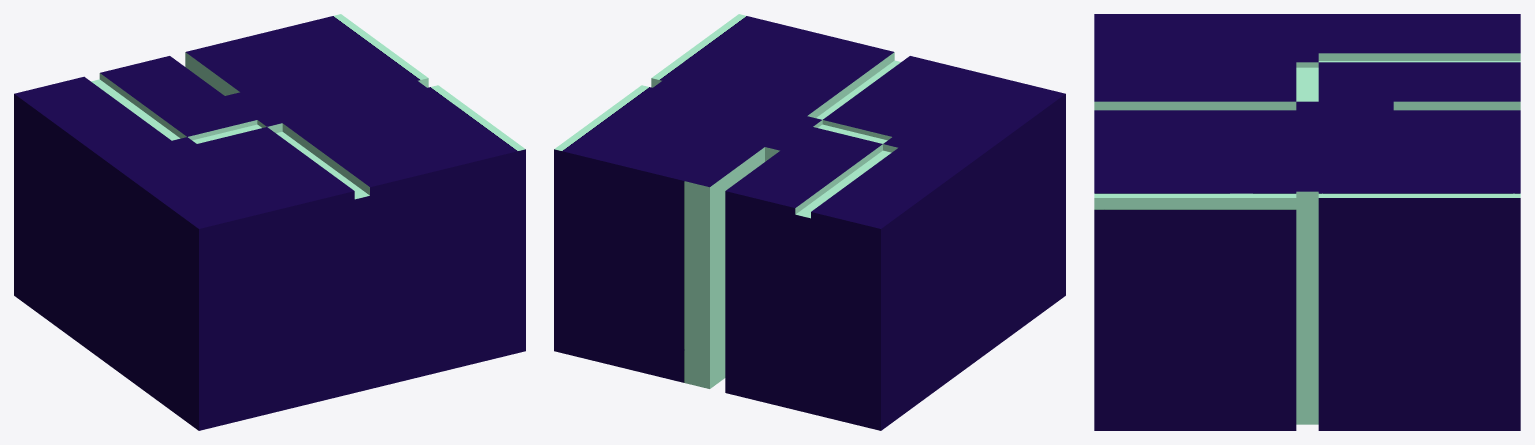
File: Platform06.fbx
3 renders of one model, left to right at view 1: azimuth 30°, elevation 25°; view 2: azimuth 150°, elevation 25°; view 3: azimuth 270°, elevation 25°, orthographic. The views are drawn at different scales.
Parts seen in each view (by area): view 1: Box066; view 2: Box066; view 3: Box066.
Part boxes in pixels (<box>): Box066: <box>14,14,525,430</box>; Box066: <box>554,14,1065,430</box>; Box066: <box>1094,14,1520,430</box>.
Bounding box in the file's own units: 130 × 77.01 × 128.
